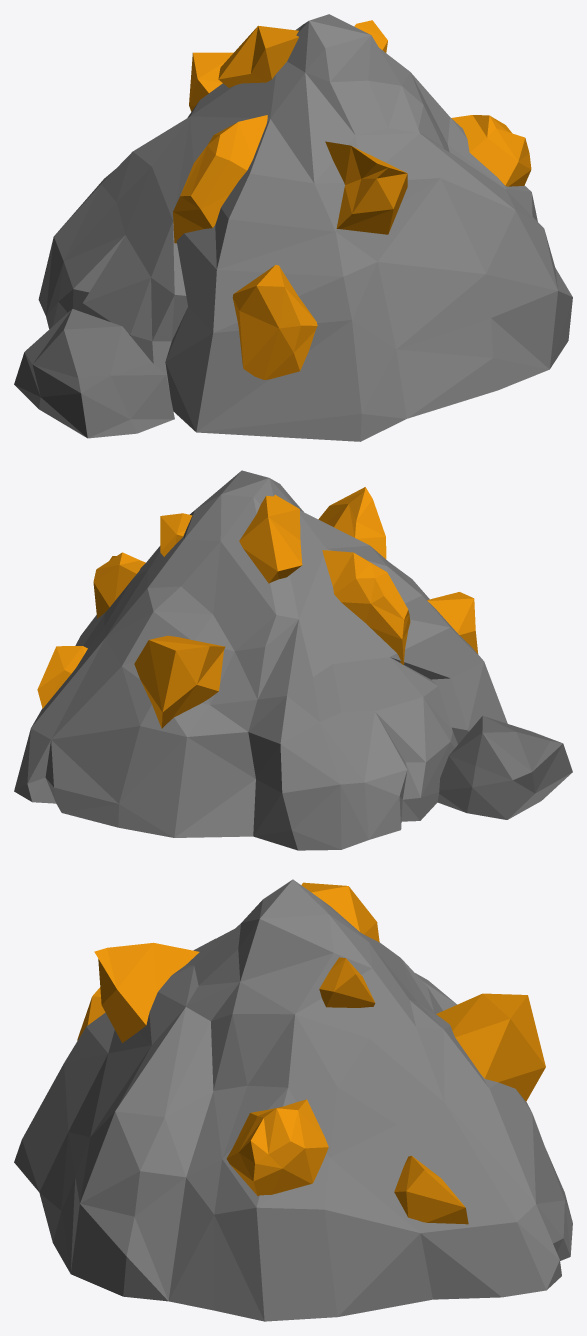
File: _stone_gold.fbx
3 renders of one model, top to bottom at view 1: azimuth 30°, elevation 25°; view 2: azimuth 150°, elevation 25°; view 3: azimuth 270°, elevation 25°, orthographic. The views are drawn at different scales.
Parts seen in each view (by area): view 1: stone_gold; view 2: stone_gold; view 3: stone_gold.
Part boxes in pixels (x1=…): stone_gold: x1=14, y1=14, x2=572, y2=441; stone_gold: x1=14, y1=470, x2=572, y2=850; stone_gold: x1=14, y1=879, x2=572, y2=1321.
Bounding box in the file's own units: 253 × 143 × 224.
